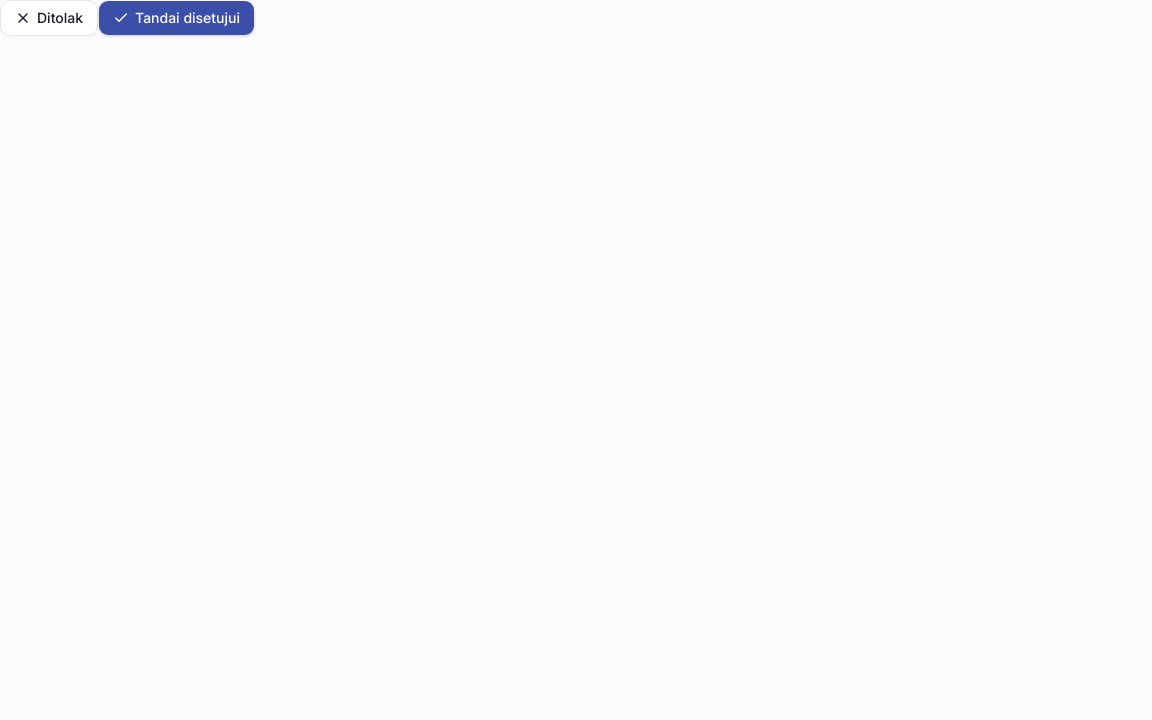
Scenario: AksiStatusPenawaran › TIDAK menolak ketika alasannya dibiarkan kosong
The width and height of the screenshot is (1152, 720).
Click the button "Ditolak".
click(49, 18)  # box x1=0 y1=0 x2=98 y2=36
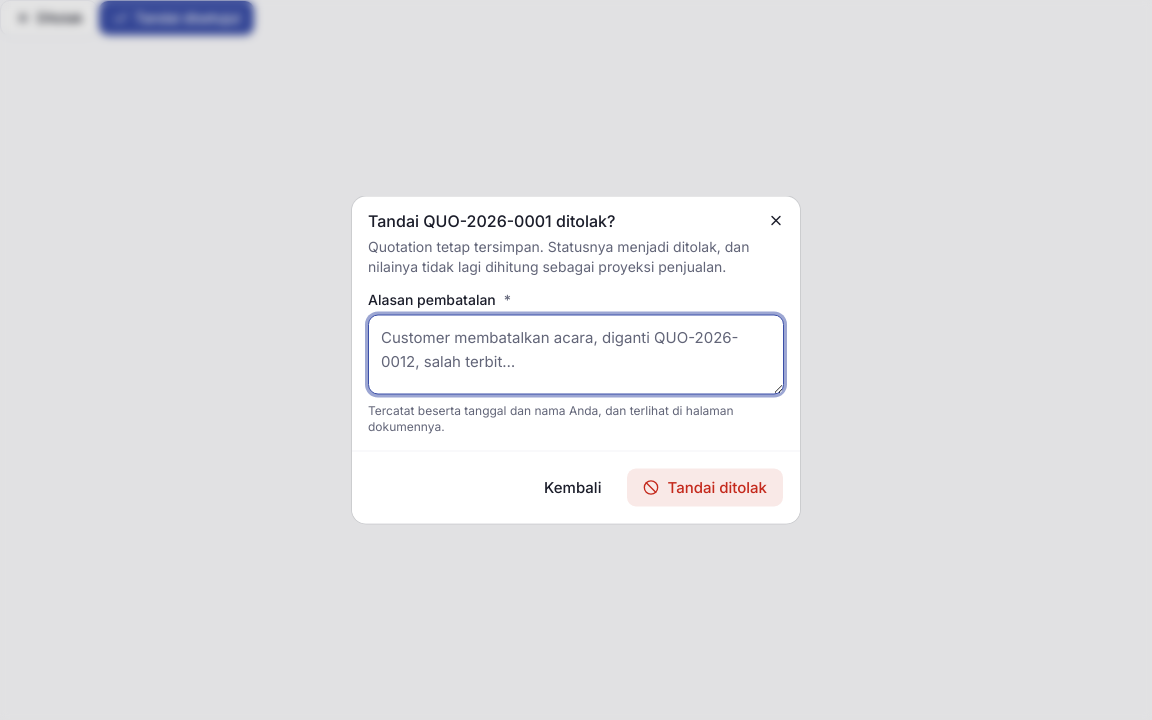
Click the button "Tandai ditolak".
click(705, 488)  # box x1=626 y1=468 x2=784 y2=508
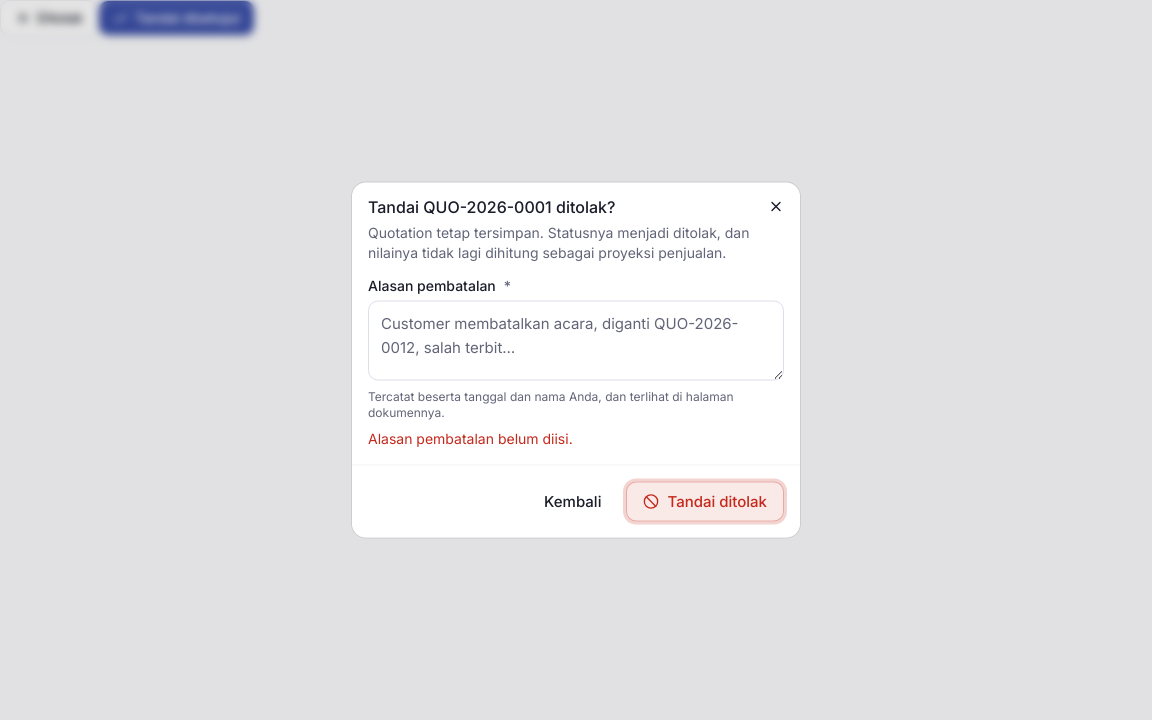
Now the message shows "belum diisi", box x1=368 y1=430 x2=573 y2=446
